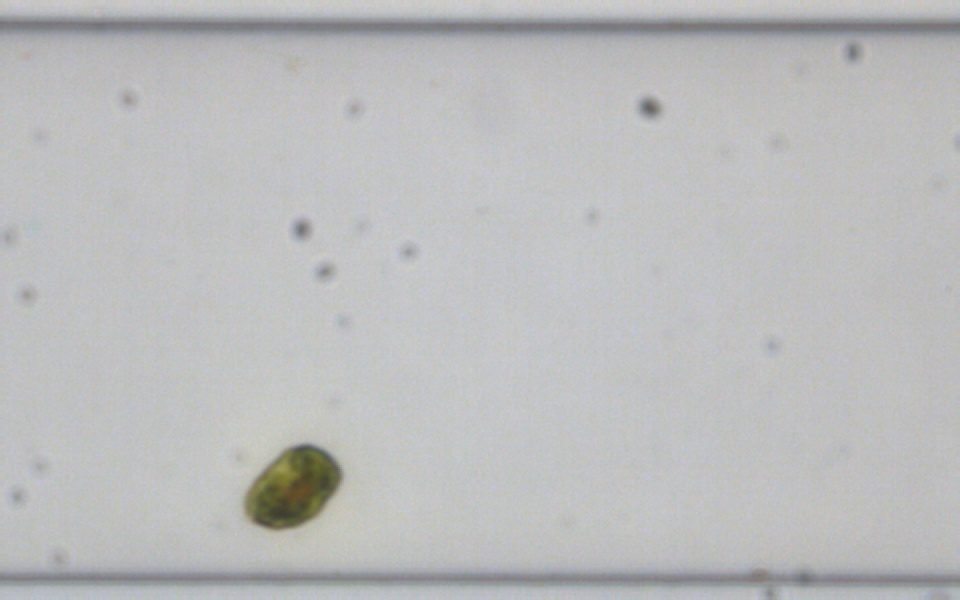Haematococcus: (240, 442, 344, 531)
